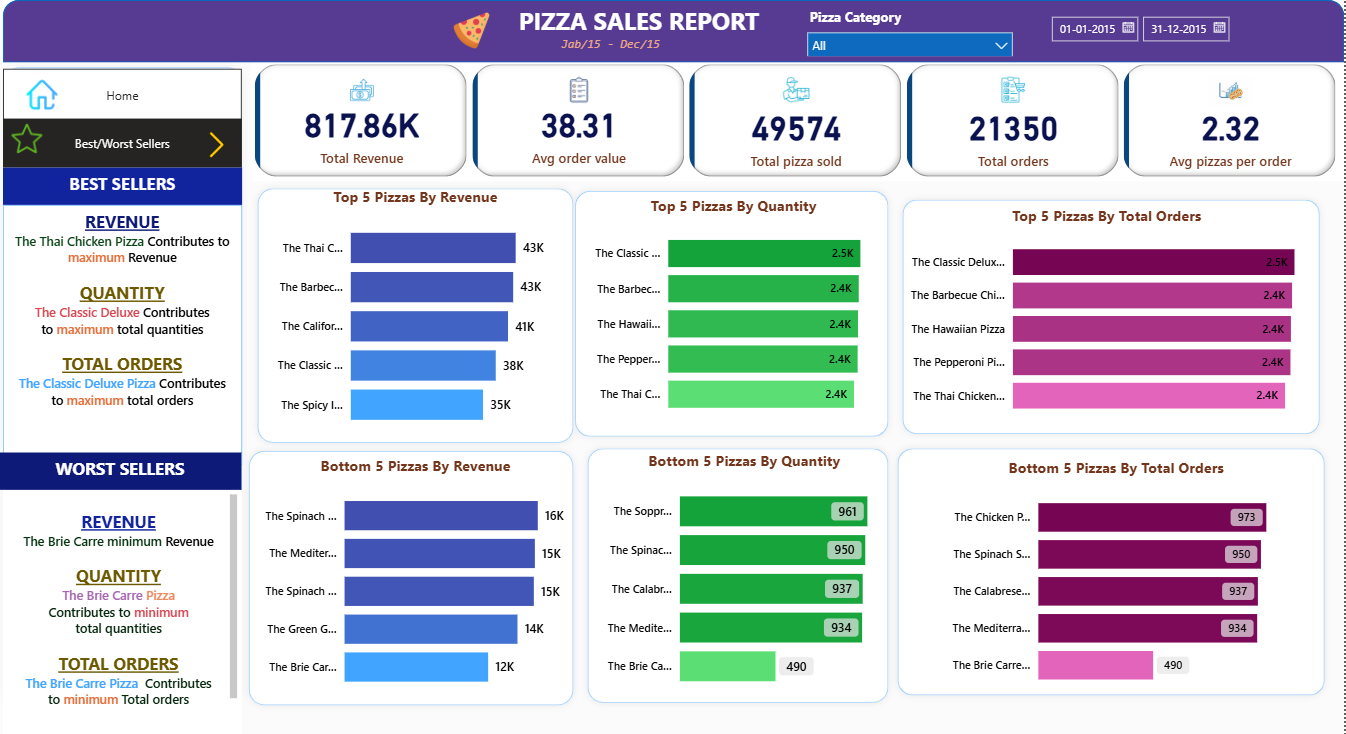

This screenshot's page, from the dashboard's own definition file:
{"tool":"powerbi","page":{"name":"Best/Worst Sellers","canvas":[1500,820],"ordinal":1},"visuals":[{"type":"cardVisual","fields":{"Data":["pizzadb pizza_sales.Total Revenue","pizzadb pizza_sales.Avg order value","pizzadb pizza_sales.Total pizza sold","pizzadb pizza_sales.Total orders","pizzadb pizza_sales.Avg pizzas per order"]},"box":[281.3,66.8,1218.6,135.1],"z":0},{"type":"shape","box":[0,66.8,279.9,727],"z":1000},{"type":"shape","box":[5.6,0,1494.3,69.6],"z":2000},{"type":"textbox","box":[575.2,0,289.7,65.5],"z":3000},{"type":"textbox","box":[622.5,34.8,130.9,50.1],"z":4000},{"type":"image","box":[497.2,8.4,61.3,51.5],"z":5000},{"type":"shape","box":[281.3,201.9,367.7,299.4],"z":6000},{"type":"textbox","box":[5.6,228.4,266,289.7],"z":7000},{"type":"textbox","box":[5.6,545.9,266,274.4],"z":8000},{"type":"textbox","box":[0,504.1,271.6,41.8],"z":9000},{"type":"slicer","fields":{"Values":["pizzadb pizza_sales.pizza_category"]},"box":[891.3,4.2,249.3,58.5],"z":10000},{"type":"slicer","fields":{"Values":["pizzadb pizza_sales.order_date"]},"box":[1161.5,8.4,227,52.9],"z":11000},{"type":"shape","box":[635.1,204.7,364.9,289.7],"z":12000},{"type":"shape","box":[999.9,214.5,480.5,277.1],"z":13000},{"type":"shape","box":[271.6,494.4,377.4,299.4],"z":14000},{"type":"shape","box":[649,491.6,351,299.4],"z":15000},{"type":"shape","box":[994.4,491.6,491.6,291.1],"z":16000},{"type":"barChart","title":"Top 5 Pizzas By Revenue ","fields":{"Category":["pizzadb pizza_sales.pizza_name"],"Y":["pizzadb pizza_sales.Total Revenue"]},"box":[295.2,207.5,339.8,284.1],"z":17000},{"type":"barChart","title":"Bottom 5 Pizzas By Revenue ","fields":{"Category":["pizzadb pizza_sales.pizza_name"],"Y":["pizzadb pizza_sales.Total Revenue"]},"box":[281.3,506.9,367.7,275.7],"z":18000},{"type":"barChart","title":"Top 5 Pizzas By Quantity","fields":{"Category":["pizzadb pizza_sales.pizza_name"],"Y":["pizzadb pizza_sales.Total pizza sold"]},"box":[649,217.3,341.2,259],"z":19000},{"type":"barChart","title":"Bottom 5 Pizzas By Quantity","fields":{"Category":["pizzadb pizza_sales.pizza_name"],"Y":["pizzadb pizza_sales.Total pizza sold"]},"box":[662.9,501.4,337,281.3],"z":20000},{"type":"barChart","title":"Top 5 Pizzas By Total Orders","fields":{"Category":["pizzadb pizza_sales.pizza_name"],"Y":["pizzadb pizza_sales.Total pizza sold"]},"box":[999.9,228.4,470.7,247.9],"z":21000},{"type":"barChart","title":"Bottom 5 Pizzas By Total Orders","fields":{"Category":["pizzadb pizza_sales.pizza_name"],"Y":["pizzadb pizza_sales.Total pizza sold"]},"box":[1047.3,509.7,396.9,270.2],"z":22000},{"type":"textbox","box":[5.6,186.6,266,41.8],"z":23000},{"type":"pageNavigator","box":[5.6,76.6,266,58.5],"z":24000},{"type":"pageNavigator","box":[5.6,132.3,266,54.3],"z":25000},{"type":"image","box":[206.1,142.1,75.2,39],"z":26000},{"type":"image","box":[16.7,83.6,65.5,44.6],"z":27000},{"type":"image","box":[1.4,132.3,61.3,44.6],"z":28000}]}

Visuals, with their boxes in screenshot pixels (x1, y1, x2, y2), scaled from the page's 1500x820 canvas onto the 1346x734 screenshot:
cardVisual - pizzadb pizza_sales.Total Revenue x pizzadb pizza_sales.Avg order value: [x1=252, y1=60, x2=1345, y2=181]
shape: [x1=0, y1=60, x2=251, y2=711]
shape: [x1=5, y1=0, x2=1345, y2=62]
textbox: [x1=516, y1=0, x2=776, y2=59]
textbox: [x1=559, y1=31, x2=676, y2=76]
image: [x1=446, y1=8, x2=501, y2=54]
shape: [x1=252, y1=181, x2=582, y2=449]
textbox: [x1=5, y1=204, x2=244, y2=464]
textbox: [x1=5, y1=489, x2=244, y2=733]
textbox: [x1=0, y1=451, x2=244, y2=489]
slicer - pizzadb pizza_sales.pizza_category: [x1=800, y1=4, x2=1023, y2=56]
slicer - pizzadb pizza_sales.order_date: [x1=1042, y1=8, x2=1246, y2=55]
shape: [x1=570, y1=183, x2=897, y2=443]
shape: [x1=897, y1=192, x2=1328, y2=440]
shape: [x1=244, y1=443, x2=582, y2=711]
shape: [x1=582, y1=440, x2=897, y2=708]
shape: [x1=892, y1=440, x2=1333, y2=701]
"Top 5 Pizzas By Revenue " barChart: [x1=265, y1=186, x2=570, y2=440]
"Bottom 5 Pizzas By Revenue " barChart: [x1=252, y1=454, x2=582, y2=701]
"Top 5 Pizzas By Quantity" barChart: [x1=582, y1=195, x2=889, y2=426]
"Bottom 5 Pizzas By Quantity" barChart: [x1=595, y1=449, x2=897, y2=701]
"Top 5 Pizzas By Total Orders" barChart: [x1=897, y1=204, x2=1320, y2=426]
"Bottom 5 Pizzas By Total Orders" barChart: [x1=940, y1=456, x2=1296, y2=698]
textbox: [x1=5, y1=167, x2=244, y2=204]
pageNavigator: [x1=5, y1=69, x2=244, y2=121]
pageNavigator: [x1=5, y1=118, x2=244, y2=167]
image: [x1=185, y1=127, x2=252, y2=162]
image: [x1=15, y1=75, x2=74, y2=115]
image: [x1=1, y1=118, x2=56, y2=158]
